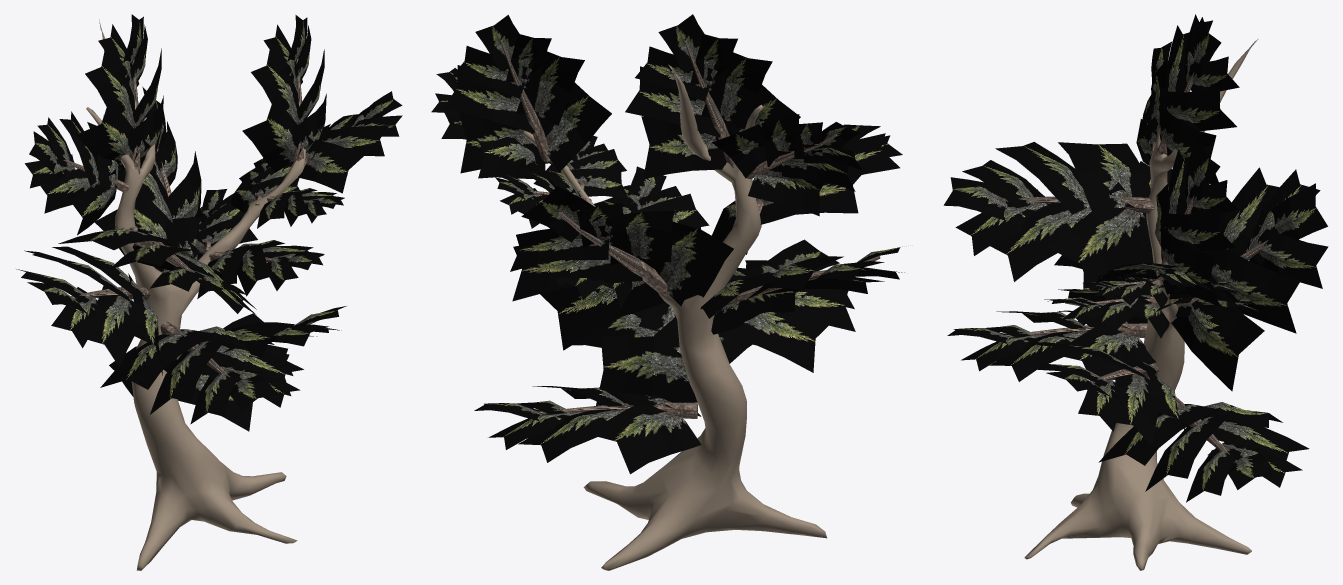
The model's file is arbol_lowpoly_version3.fbx.
3 views of the same model, side by side, from view 1: azimuth 30°, elevation 25°; view 2: azimuth 150°, elevation 25°; view 3: azimuth 270°, elevation 25° (orthographic). The views are drawn at different scales.
Visible parts, largest first — view 1: Cube, Cylinder.004, Cylinder.013, Cylinder.008, Cylinder.011, Cylinder.007, Cylinder.012, Cylinder.002, Cylinder, Cylinder.001, Cylinder.009, Cylinder.006 (+3 smaller); view 2: Cube, Cylinder.012, Cylinder.011, Cylinder.008, Cylinder.010, Cylinder.007, Cylinder.009, Cylinder.004, Cylinder.013, Cylinder, Cylinder.002, Cylinder.001 (+3 smaller); view 3: Cylinder, Cylinder.012, Cube, Cylinder.010, Cylinder.008, Cylinder.011, Cylinder.004, Cylinder.009, Cylinder.001, Cylinder.002, Cylinder.007, Cylinder.003 (+2 smaller).
Boxes of the visible parts, <box> form: Cube: <box>86,19,306,570</box>; Cylinder.004: <box>100,321,303,424</box>; Cylinder.013: <box>16,246,162,375</box>; Cylinder.008: <box>76,14,163,174</box>; Cylinder.011: <box>242,15,326,172</box>; Cylinder.007: <box>25,111,129,235</box>; Cylinder.012: <box>94,86,213,290</box>; Cylinder.002: <box>298,91,402,193</box>; Cylinder: <box>58,225,256,314</box>; Cylinder.001: <box>197,240,324,298</box>; Cylinder.009: <box>164,306,346,372</box>; Cylinder.006: <box>195,189,257,260</box>; Cube: <box>524,64,826,570</box>; Cylinder.012: <box>510,186,733,350</box>; Cylinder.011: <box>443,14,611,173</box>; Cylinder.008: <box>625,14,800,179</box>; Cylinder.010: <box>474,386,701,474</box>; Cylinder.007: <box>711,114,861,216</box>; Cylinder.009: <box>572,274,752,405</box>; Cylinder.004: <box>675,239,855,372</box>; Cylinder.013: <box>700,246,904,334</box>; Cylinder: <box>711,124,902,254</box>; Cylinder.002: <box>431,68,552,178</box>; Cylinder.001: <box>594,166,709,229</box>; Cylinder: <box>943,142,1154,297</box>; Cylinder.012: <box>1171,167,1328,391</box>; Cube: <box>1024,38,1258,570</box>; Cylinder.010: <box>1098,397,1309,502</box>; Cylinder.008: <box>1153,14,1239,184</box>; Cylinder.011: <box>1155,139,1237,306</box>; Cylinder.004: <box>947,310,1155,381</box>; Cylinder.009: <box>1029,334,1186,445</box>; Cylinder.001: <box>1044,289,1169,338</box>; Cylinder.002: <box>1095,262,1220,298</box>; Cylinder.007: <box>1136,41,1185,165</box>; Cylinder.003: <box>1083,275,1167,309</box>.
Bounding box in the file's own units: 1406 × 1726 × 1168.
Materials: 2 (2 with a texture image).
